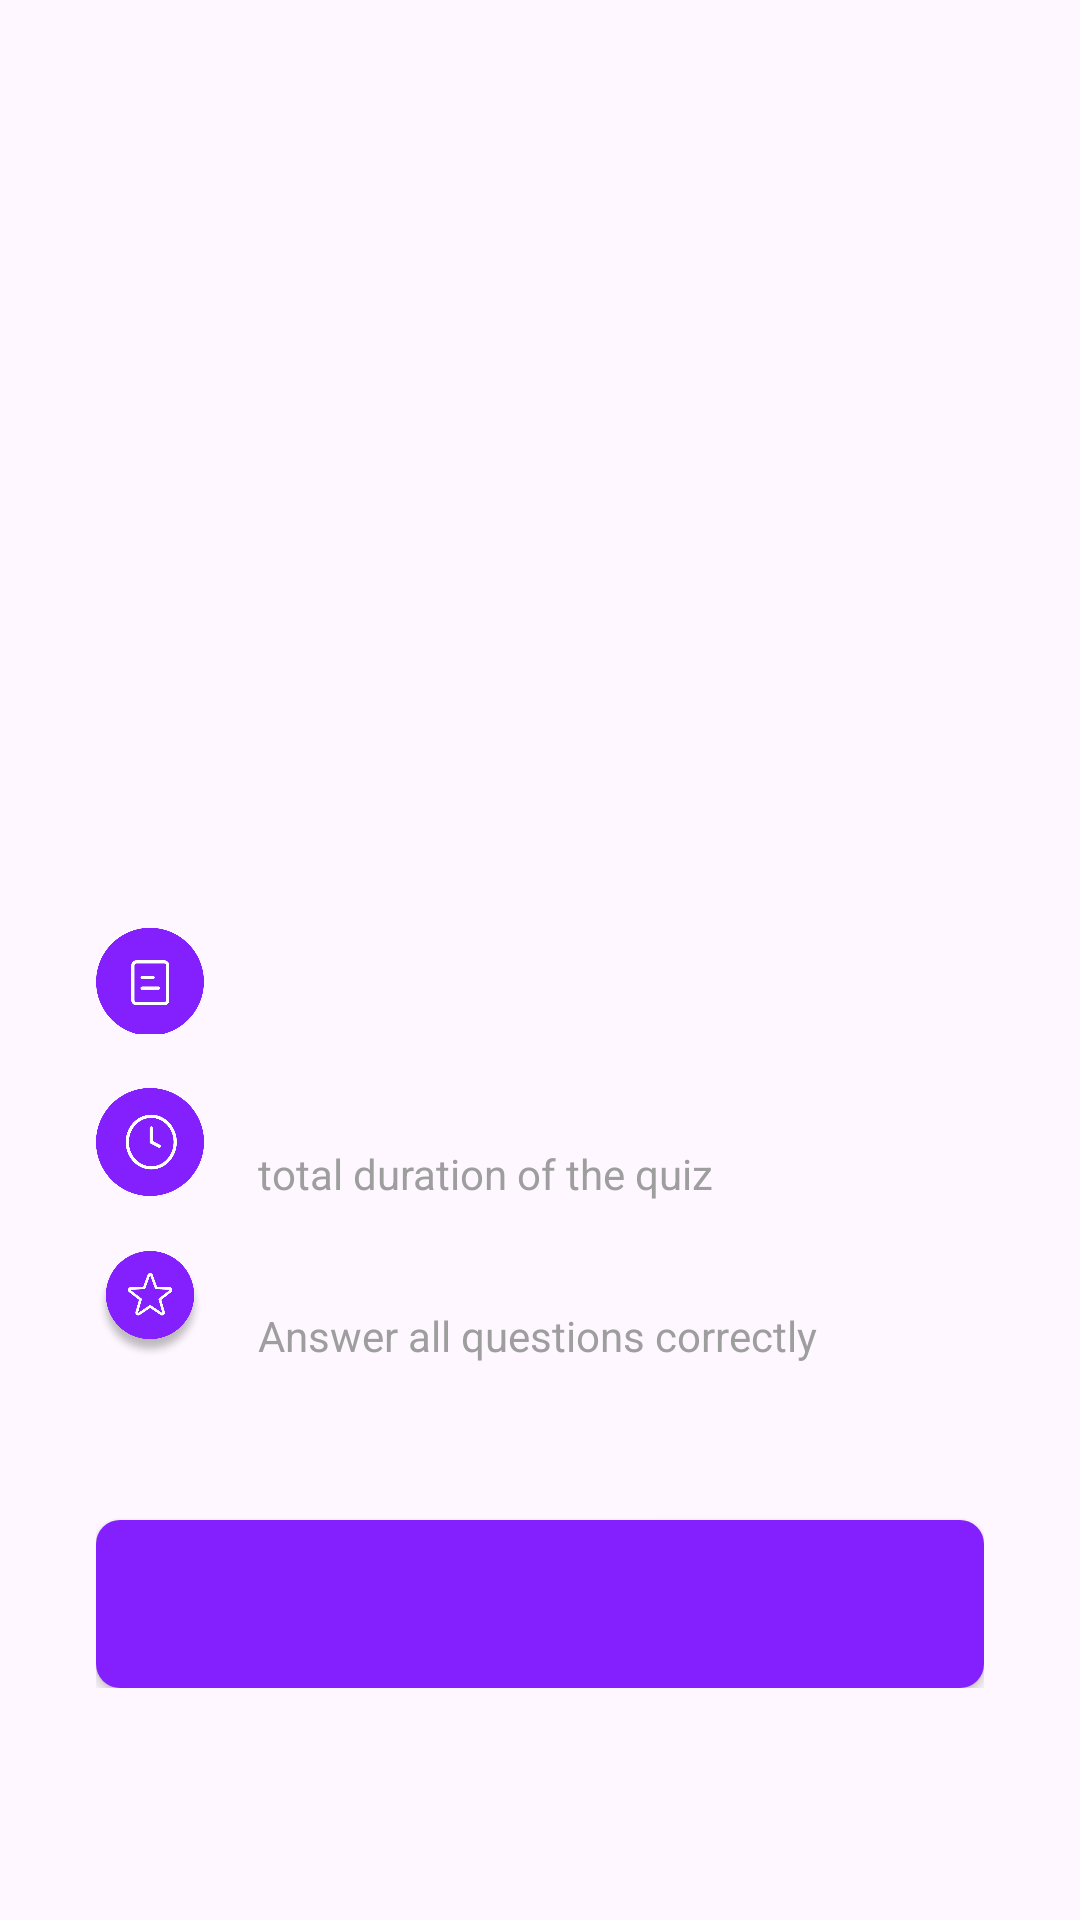

Where to tap for icons on this 1080w x 1920h app screen, as [x,y]:
reward: [150,1300]
